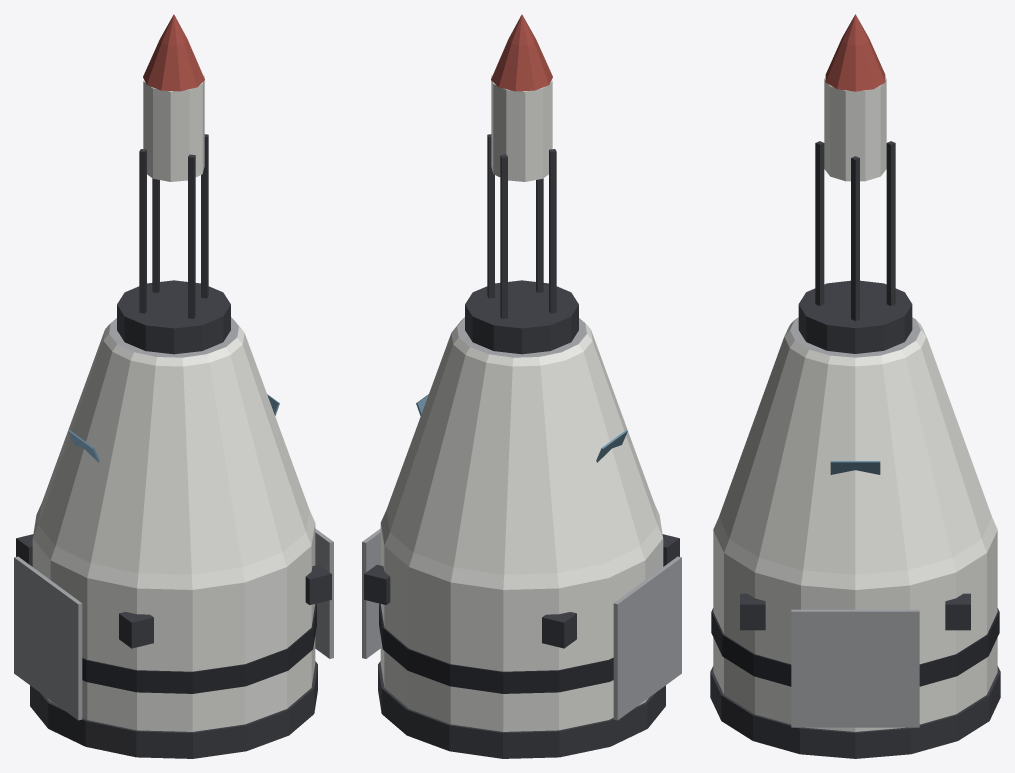
File: Head_Capsule_L.fbx
3 views of the same model, side by side, from view 1: azimuth 30°, elevation 25°; view 2: azimuth 150°, elevation 25°; view 3: azimuth 270°, elevation 25° (orthographic).
Visible parts, largest first — view 1: Head_Capsule_L; view 2: Head_Capsule_L; view 3: Head_Capsule_L.
Part boxes in pixels (x1,y1,x2,y2): Head_Capsule_L: [14, 14, 333, 758]; Head_Capsule_L: [362, 14, 681, 758]; Head_Capsule_L: [710, 14, 1000, 758].
Size of the model in its own units: 3.11 by 7.95 by 3.06.
1 material, 1 textured.
